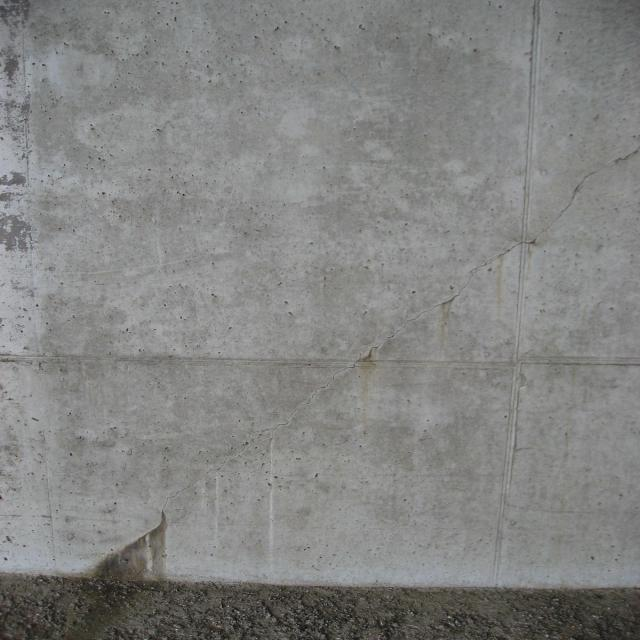diagonal crack: (96, 148, 640, 580)
